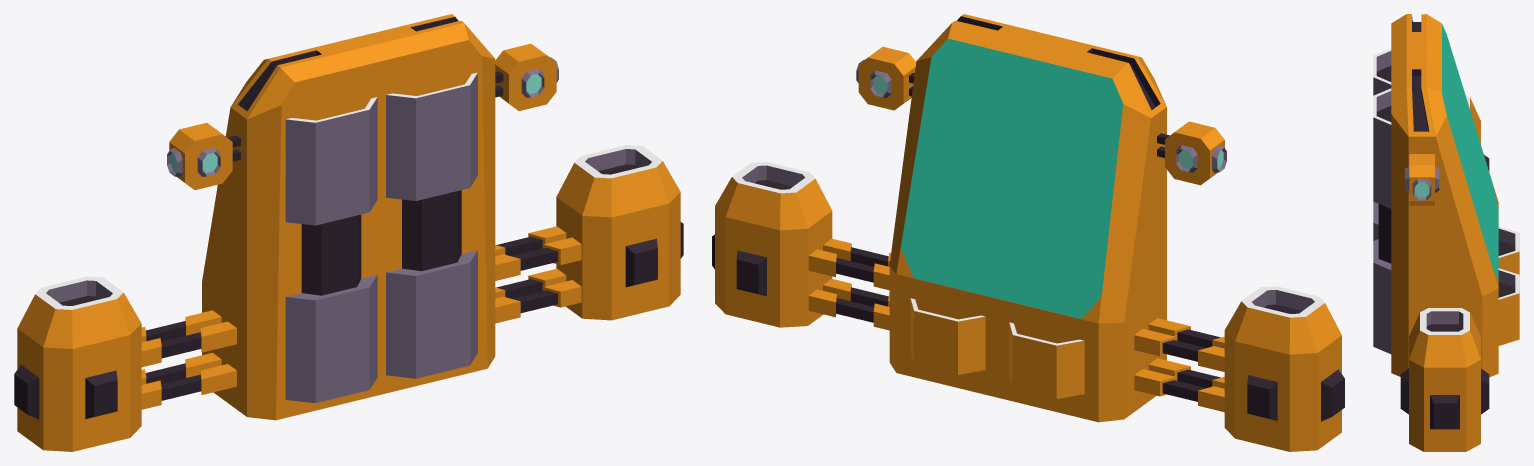
File: freighter-final.fbx
The picture shows the model from 3 angles, left to right: view 1: azimuth 30°, elevation 25°; view 2: azimuth 150°, elevation 25°; view 3: azimuth 270°, elevation 25°; orthographic projection. The views are drawn at different scales.
Visible parts, largest first — view 1: FreighterFinal; view 2: FreighterFinal; view 3: FreighterFinal.
Part boxes in pixels (x1,y1,x2,y2): FreighterFinal: [14, 14, 683, 451]; FreighterFinal: [712, 14, 1344, 451]; FreighterFinal: [1373, 14, 1519, 451].
Size of the model in its own units: 401 by 200 by 94.66.
